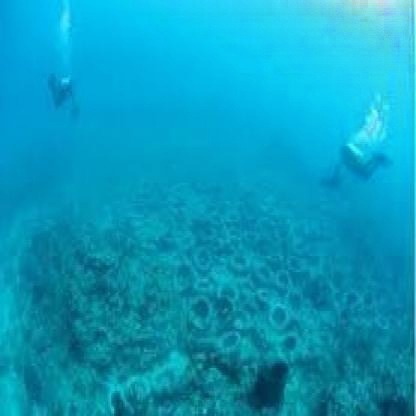tire: (172, 288, 214, 336), (266, 297, 290, 341), (197, 242, 221, 279), (216, 324, 244, 348), (230, 252, 258, 276), (213, 297, 233, 325)
